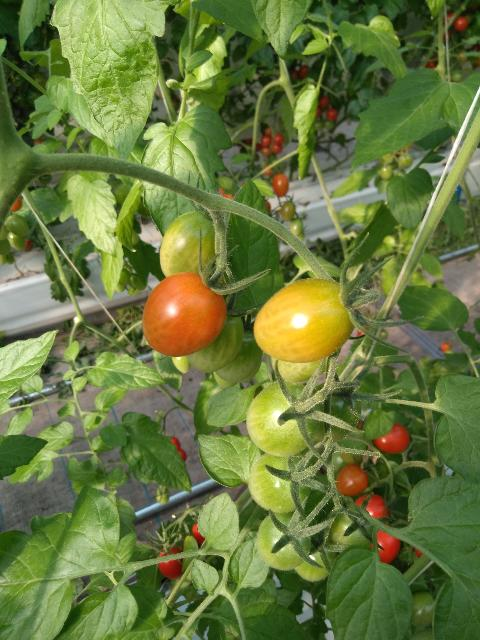l_fully_ripened: (369, 522, 399, 564), (373, 422, 409, 455), (353, 494, 389, 523), (158, 545, 182, 579)
l_green: (245, 380, 322, 456), (160, 210, 222, 279), (184, 305, 245, 373), (248, 453, 311, 513), (256, 511, 312, 571), (310, 382, 362, 444), (322, 504, 376, 558), (215, 327, 262, 382), (271, 348, 341, 382), (293, 529, 336, 583), (411, 590, 435, 626), (5, 213, 28, 236)
l_half_ripened: (253, 278, 355, 363), (143, 272, 227, 356), (335, 464, 368, 496)
